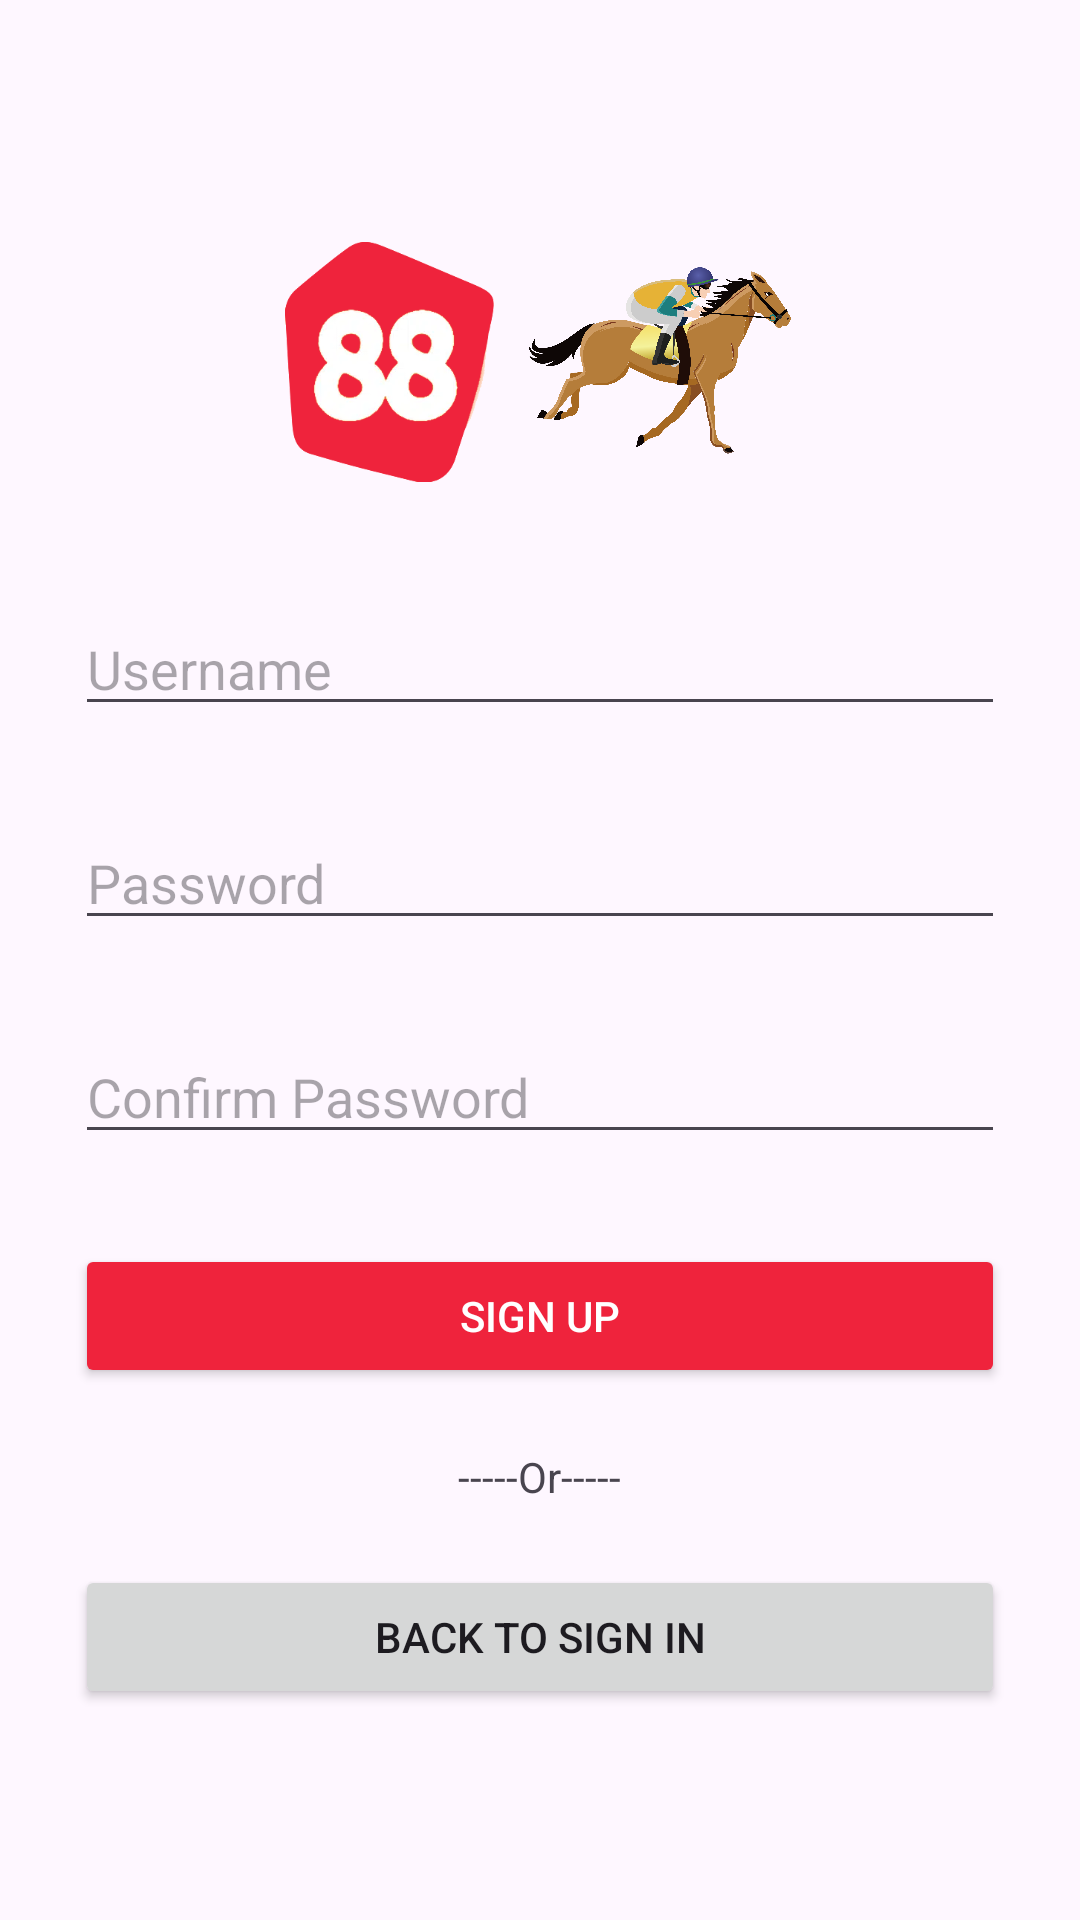

Screen size 1080 × 1920. Icon name, then its center in pixels as (x,y):
horse race: (660,360)
